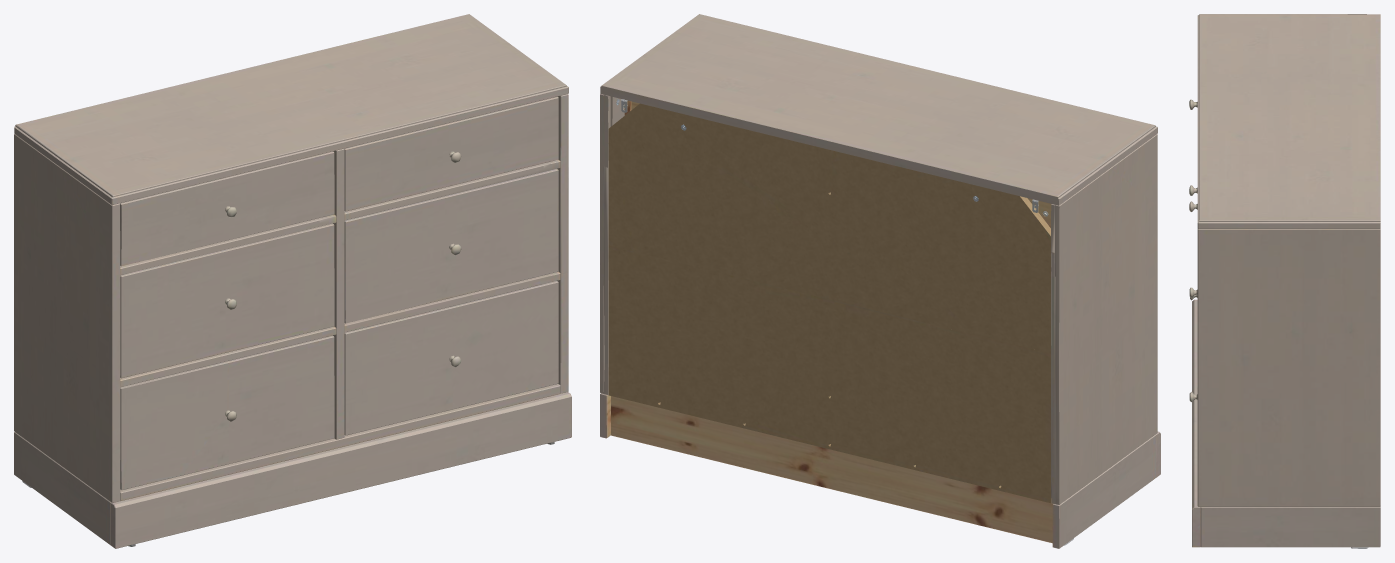
Rendered from havsta_komoda_6_szuflad_30599479.glb.
3 views of the same model, side by side, from view 1: azimuth 30°, elevation 25°; view 2: azimuth 150°, elevation 25°; view 3: azimuth 270°, elevation 25° (orthographic). The views are drawn at different scales.
Visible parts, largest first — view 1: havsta_komoda_6_szuflad_30599479; view 2: havsta_komoda_6_szuflad_30599479; view 3: havsta_komoda_6_szuflad_30599479.
Boxes of the visible parts, x1,y1,x2,y2 form: havsta_komoda_6_szuflad_30599479: [14, 14, 571, 548]; havsta_komoda_6_szuflad_30599479: [600, 14, 1160, 548]; havsta_komoda_6_szuflad_30599479: [1189, 14, 1380, 548].
Size of the model in its own units: 1.21 by 0.891 by 0.4706.
1 material, 1 textured.
